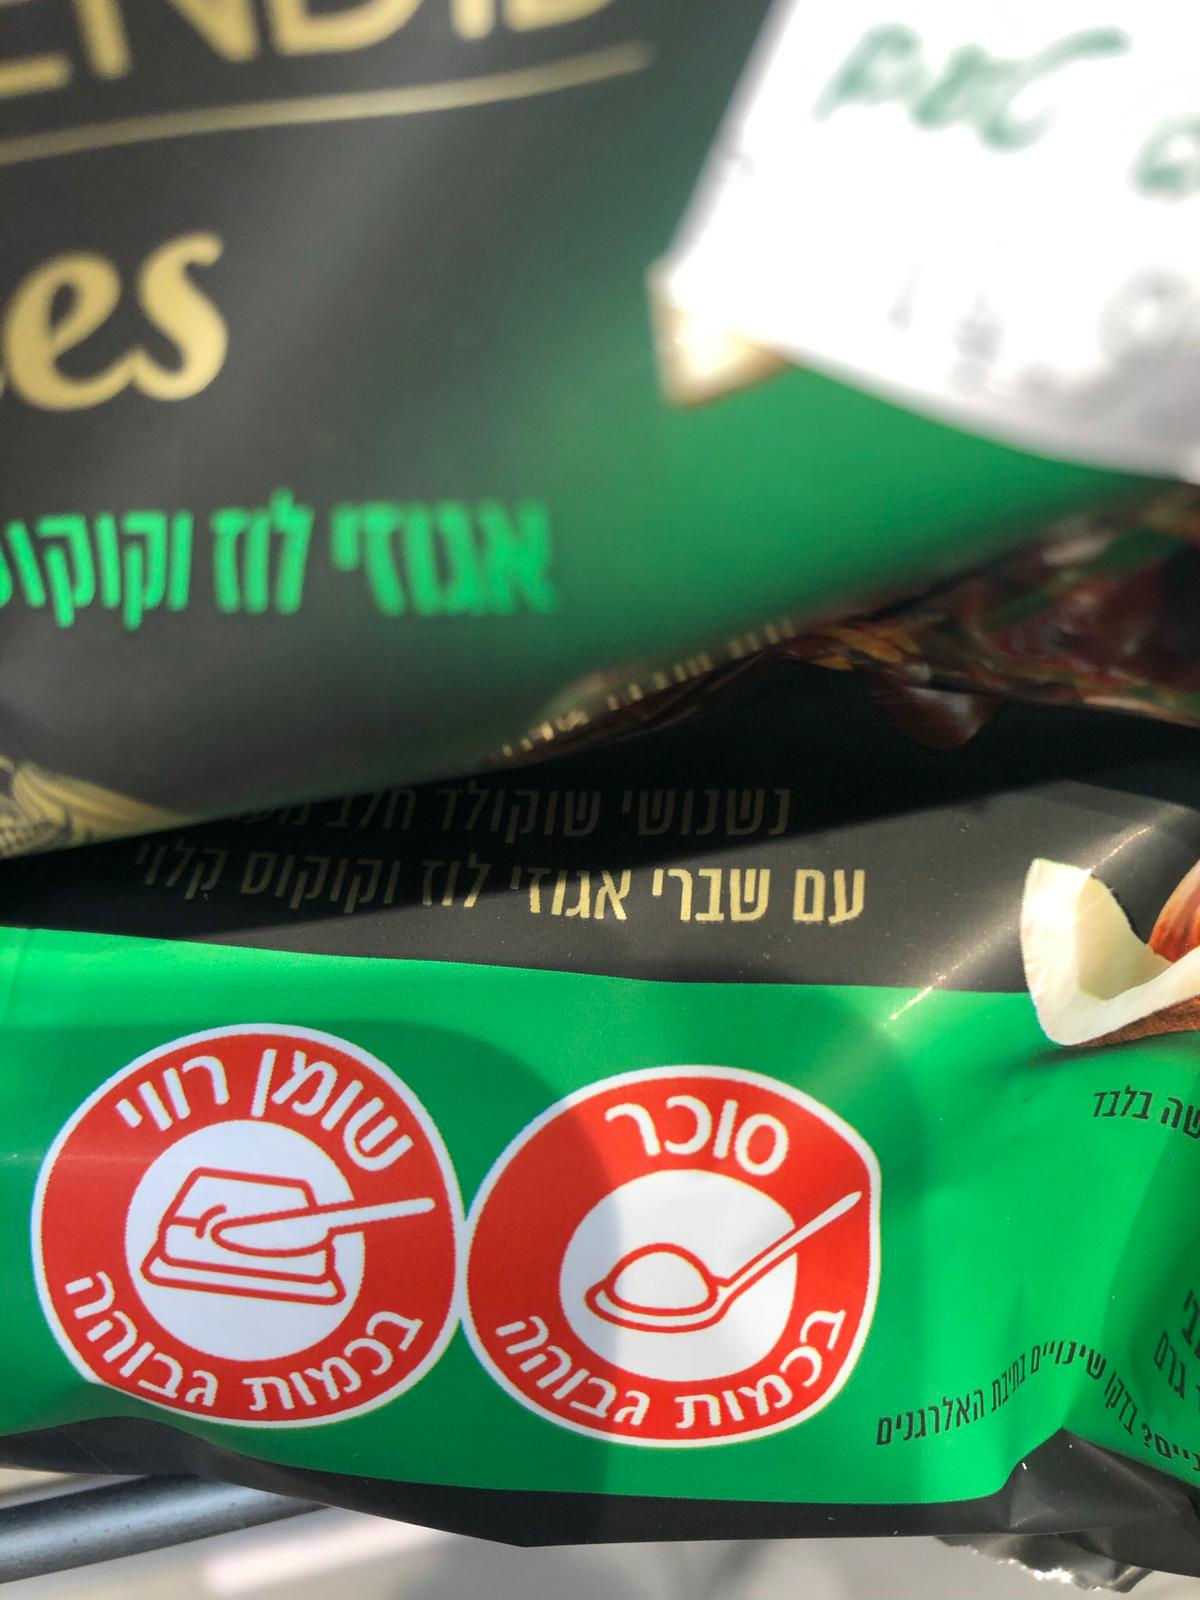fat: (32, 1020, 461, 1435)
sugar: (458, 1061, 874, 1451)
